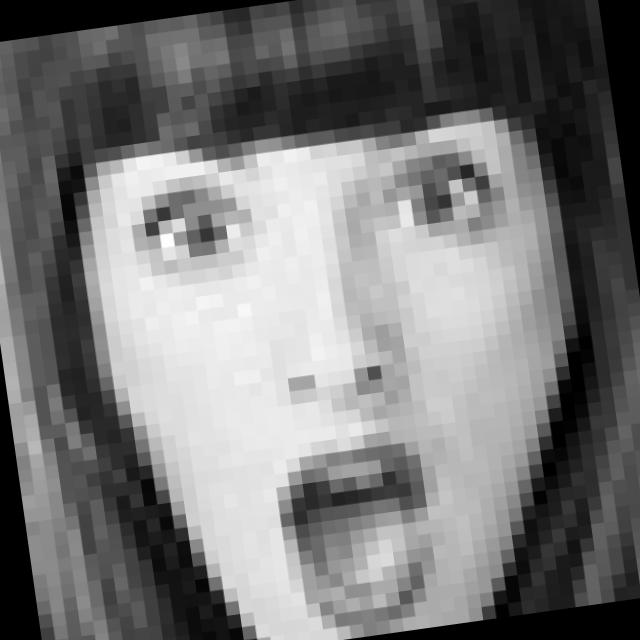surprise: (103, 88, 576, 640)
